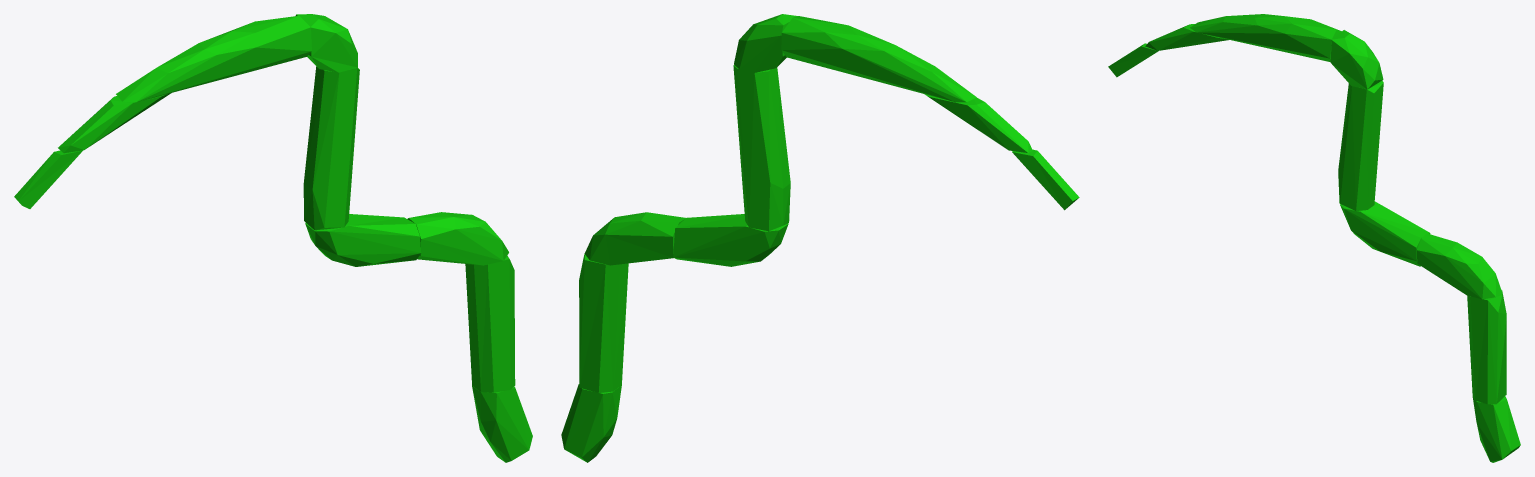
Rendered from Needle.OBJ.
The picture shows the model from 3 angles, left to right: view 1: azimuth 30°, elevation 25°; view 2: azimuth 150°, elevation 25°; view 3: azimuth 330°, elevation 25°; orthographic projection. The views are drawn at different scales.
Parts seen in each view (by area): view 1: Needle_Needle_hull_8; view 2: Needle_Needle_hull_8; view 3: Needle_Needle_hull_8.
Boxes of the visible parts, x1,y1,x2,y2 form: Needle_Needle_hull_8: [14, 14, 532, 462]; Needle_Needle_hull_8: [561, 14, 1079, 462]; Needle_Needle_hull_8: [1108, 14, 1520, 462].
Size of the model in its own units: 0.1227 by 0.1129 by 0.00826.
